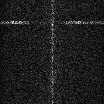wifi: (1, 21, 104, 24)
